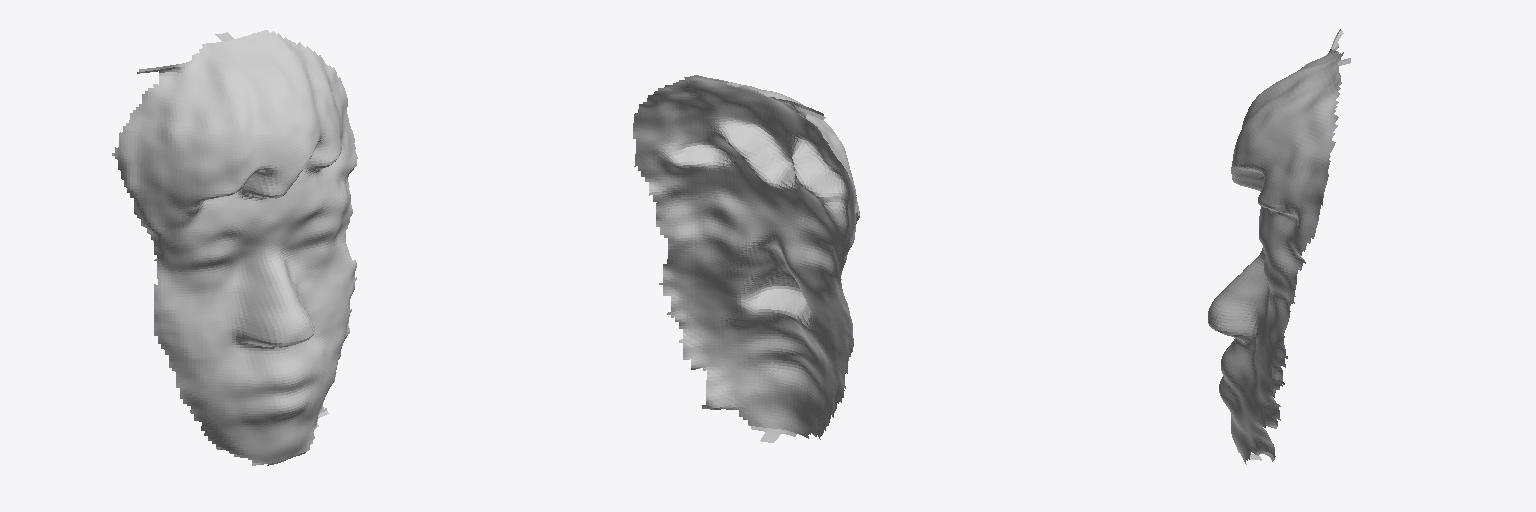
The model's file is dhkim.obj.
The picture shows the model from 3 angles: view 1: azimuth 30°, elevation 25°; view 2: azimuth 150°, elevation 25°; view 3: azimuth 270°, elevation 25°; orthographic projection.
Size of the model in its own units: 134 by 216 by 72.2.